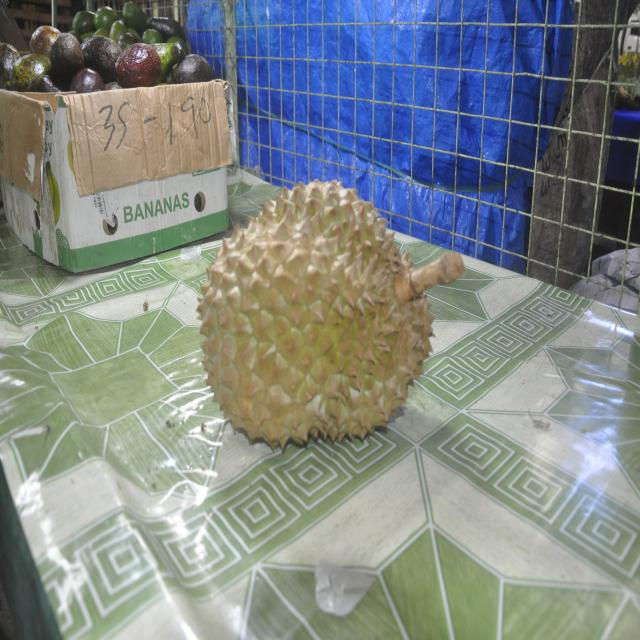mature: (198, 180, 465, 449)
